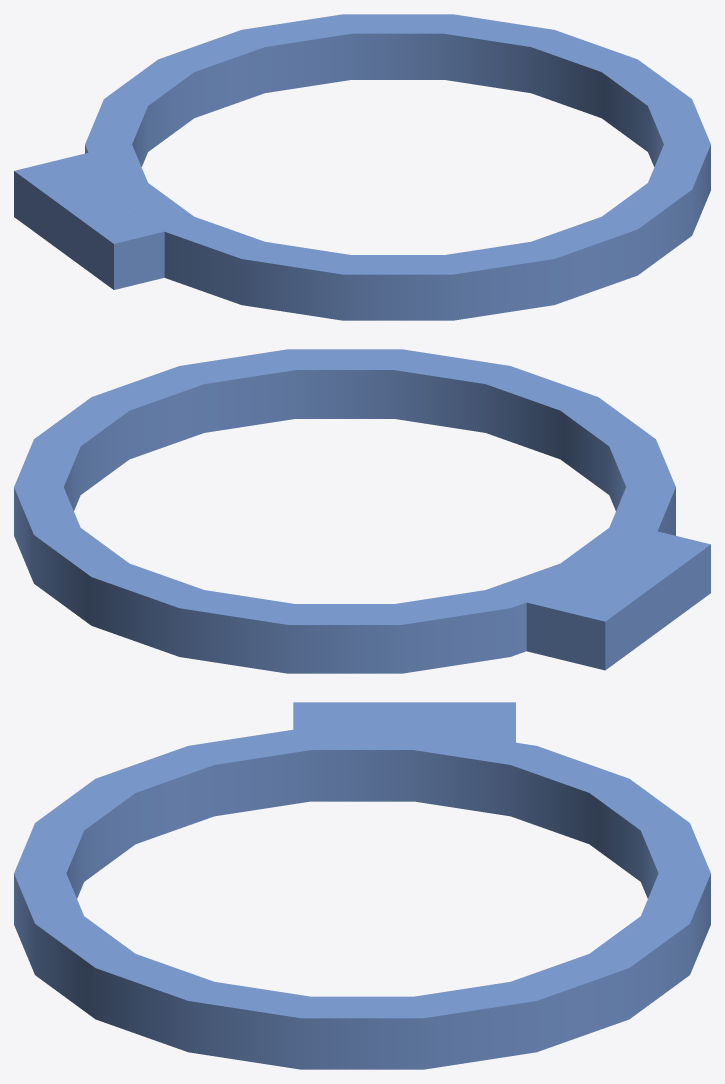
Rendered from TeleportShip.FBX.
The picture shows the model from 3 angles, top to bottom: view 1: azimuth 30°, elevation 25°; view 2: azimuth 150°, elevation 25°; view 3: azimuth 270°, elevation 25°; orthographic projection. The views are drawn at different scales.
Visible parts, largest first — view 1: Box001; view 2: Box001; view 3: Box001.
Boxes of the visible parts, x1,y1,x2,y2 form: Box001: (14,14,710,320); Box001: (14,349,710,673); Box001: (14,702,710,1069).
Bounding box in the file's own units: 27.04 × 2.05 × 25.19.
